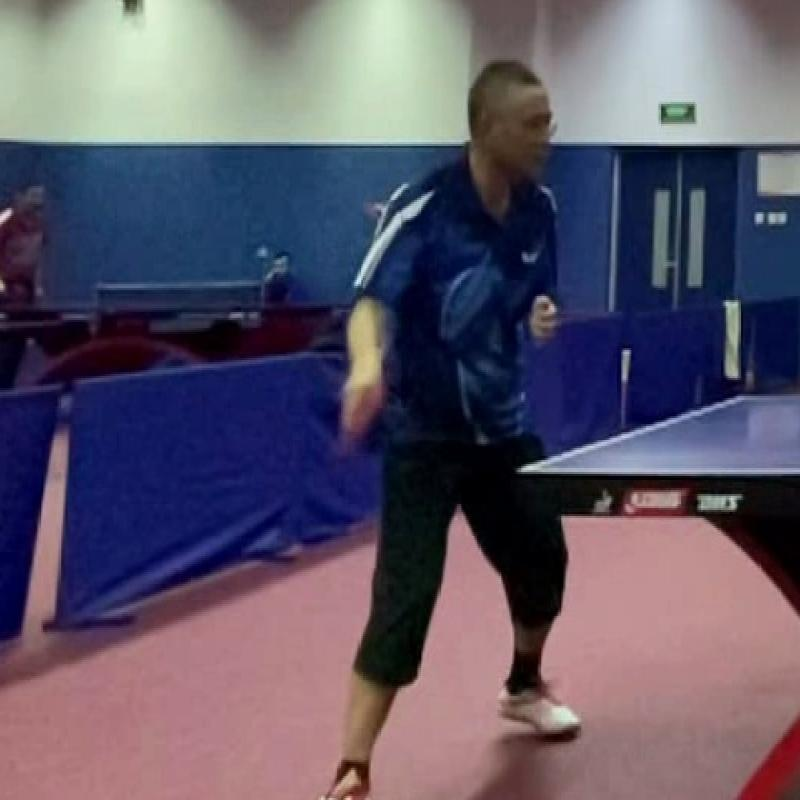bats: (325, 364, 409, 462)
